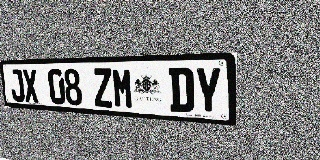0: (47, 69, 66, 105)
8: (63, 68, 83, 106)
D: (169, 67, 194, 113)
J: (9, 69, 25, 102)
M: (112, 68, 134, 109)
X: (22, 69, 39, 103)
Y: (194, 67, 222, 115)
Z: (92, 68, 113, 108)
